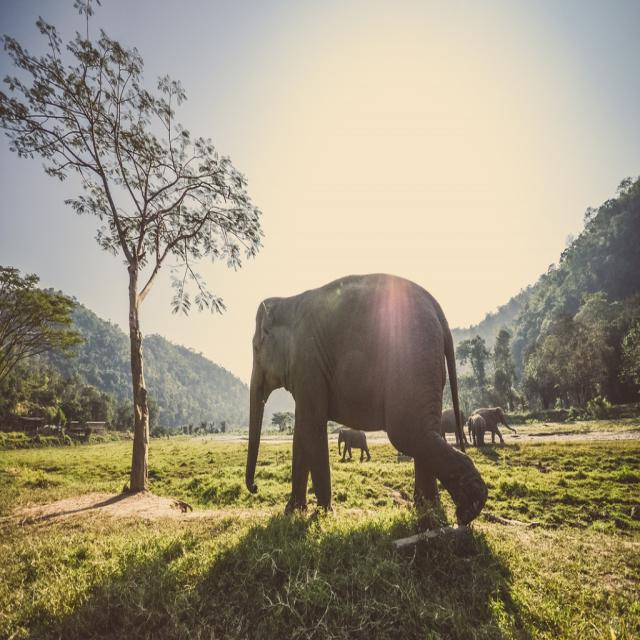elephant: (240, 268, 488, 533), (471, 406, 516, 444), (338, 426, 373, 463), (440, 405, 470, 448), (467, 417, 487, 448)
